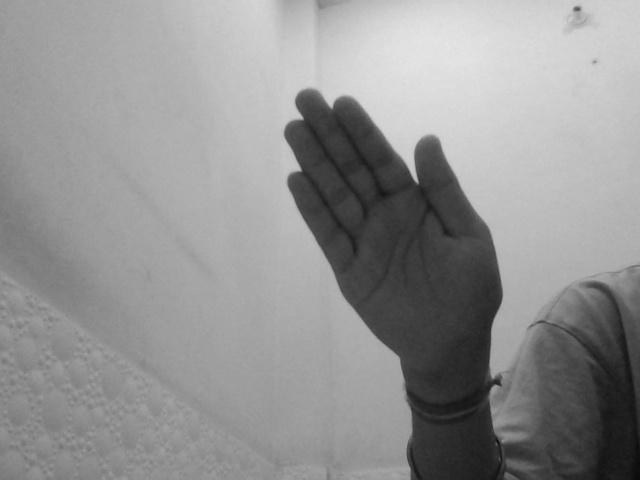Hello: (271, 84, 504, 386)
